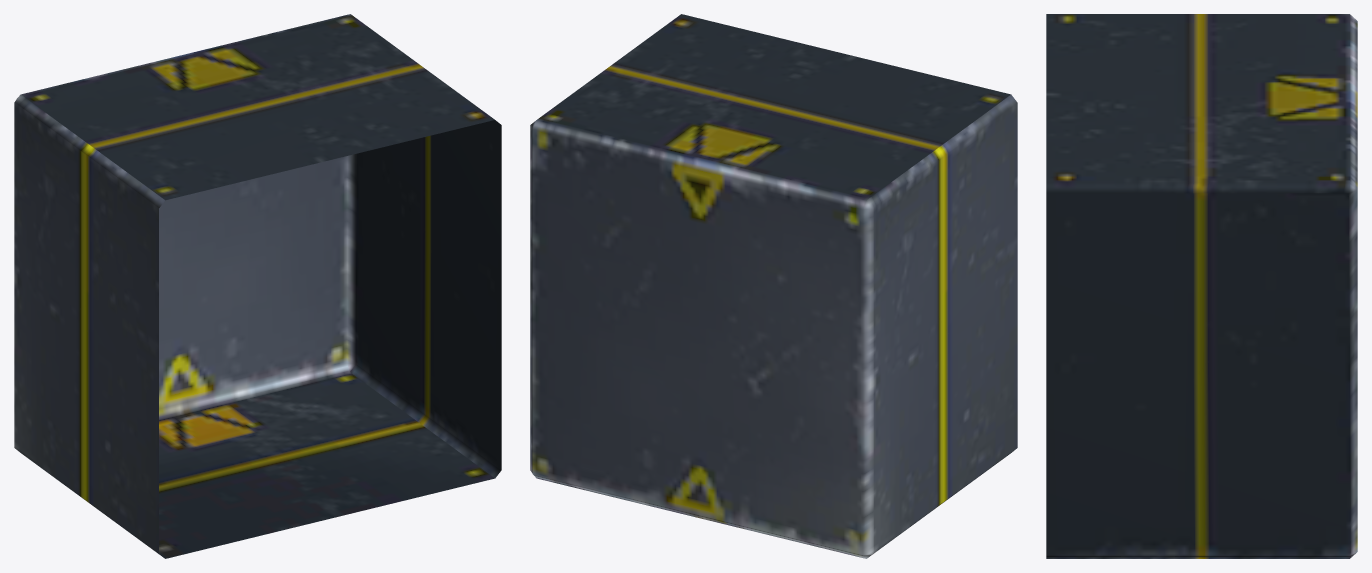
3 renders of one model, left to right at view 1: azimuth 30°, elevation 25°; view 2: azimuth 150°, elevation 25°; view 3: azimuth 270°, elevation 25°, orthographic. The views are drawn at different scales.
Parts seen in each view (by area): view 1: skin_crate_lm_d; view 2: skin_crate_lm_d; view 3: skin_crate_lm_d.
Boxes of the visible parts, x1,y1,x2,y2 form: skin_crate_lm_d: (14,14,501,558); skin_crate_lm_d: (530,14,1017,558); skin_crate_lm_d: (1046,14,1357,558).
Bounding box in the file's own units: 0.9 × 0.9 × 0.675.
1 material, 1 textured.
